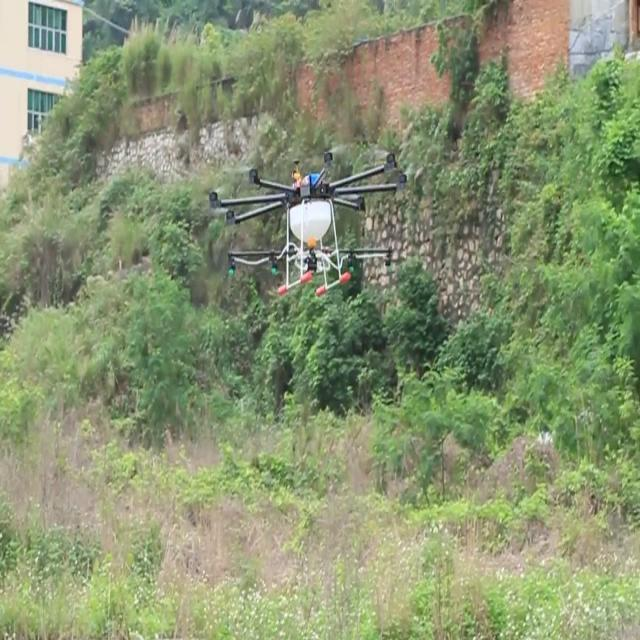UAV: (209, 152, 407, 295)
